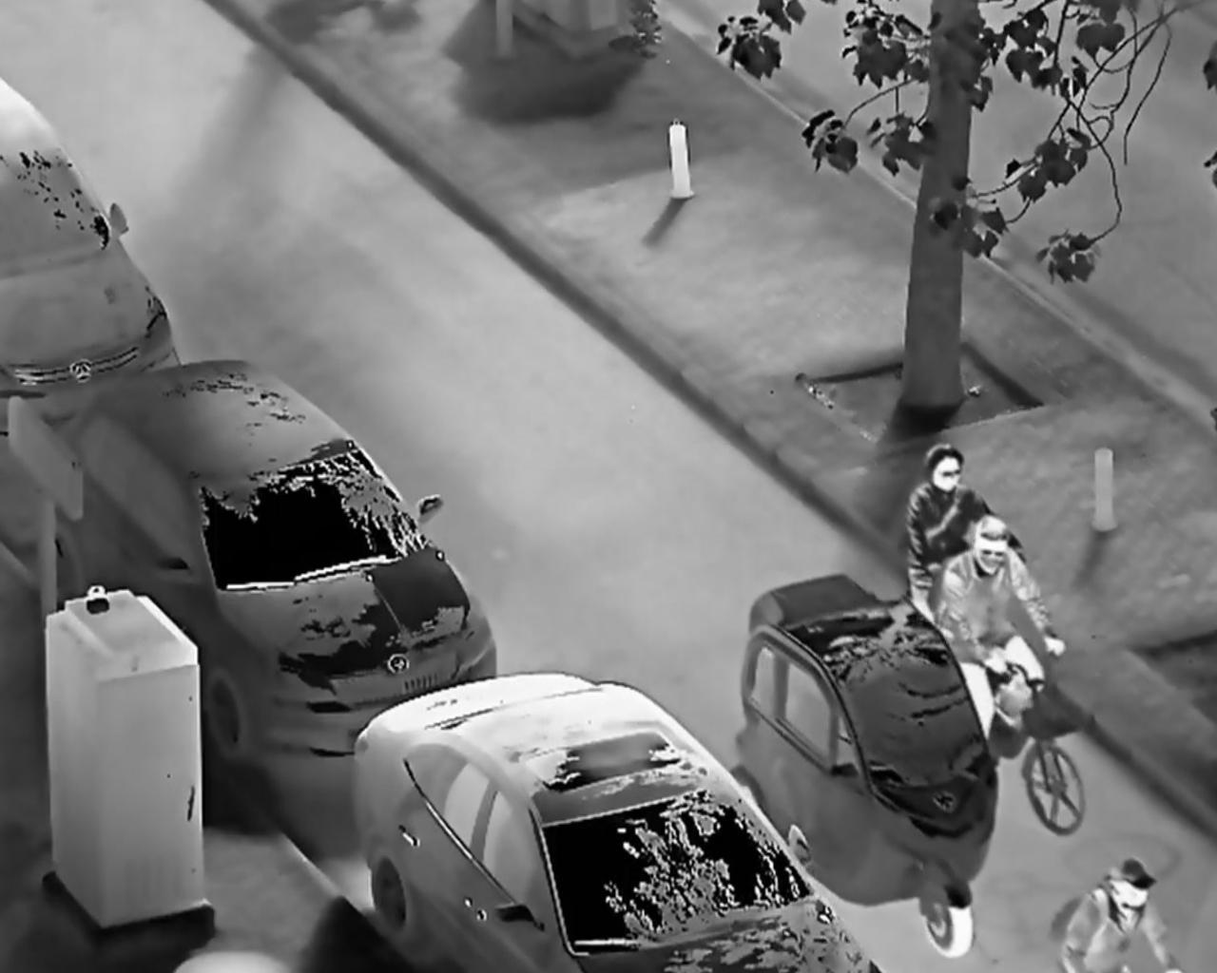person: (931, 514, 1072, 743), (902, 437, 1028, 616), (1047, 851, 1175, 973)
